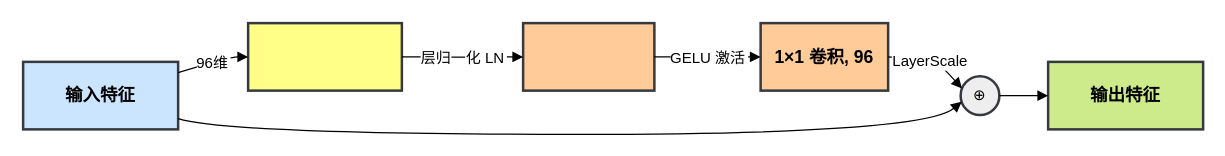
Some shapes in this 1225 by 156 pixel diagram are drawn without their labels. The shapes that lost their labels are listed below. From the top down, each one's centre as x and y in pixels, then its label:
At point (324, 56): "7×7 深度卷积, 96".
At point (588, 56): "1×1 卷积, 384".
